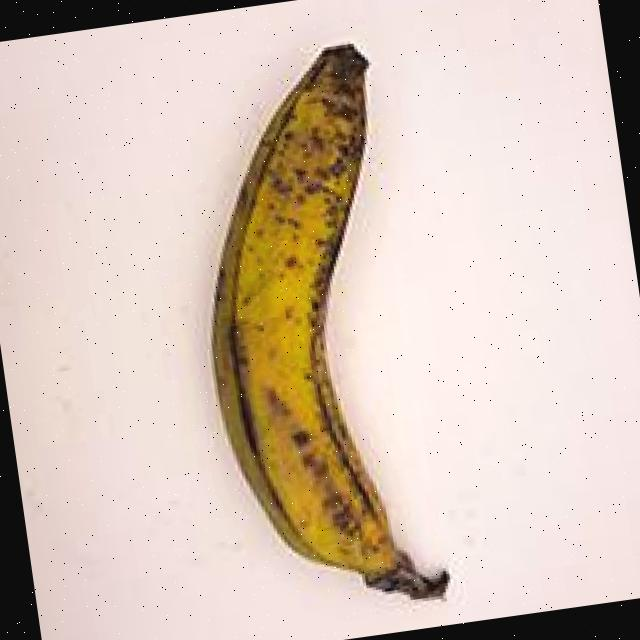Overripe: (134, 6, 490, 636)
